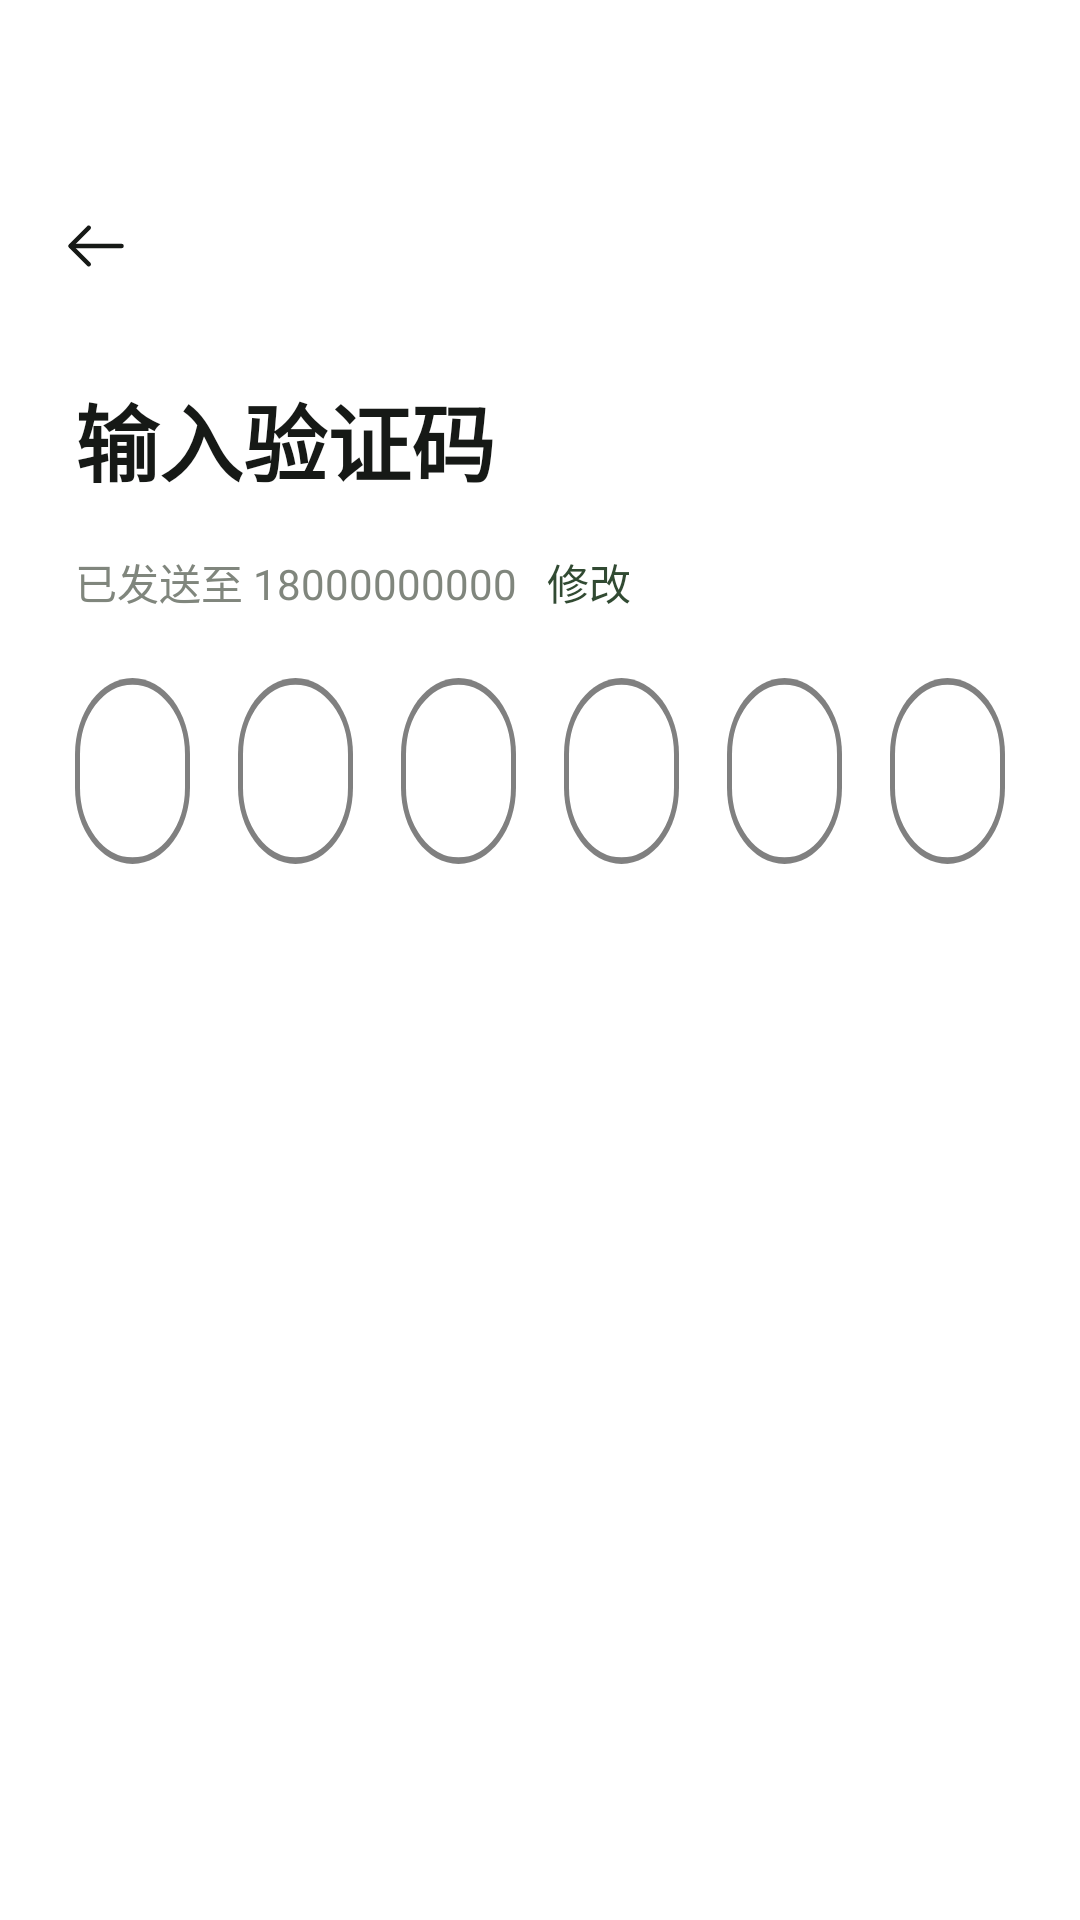

Where to tap for icons on this 1080x1920 app screen, as [x,y]:
arrow left: [96,246]
